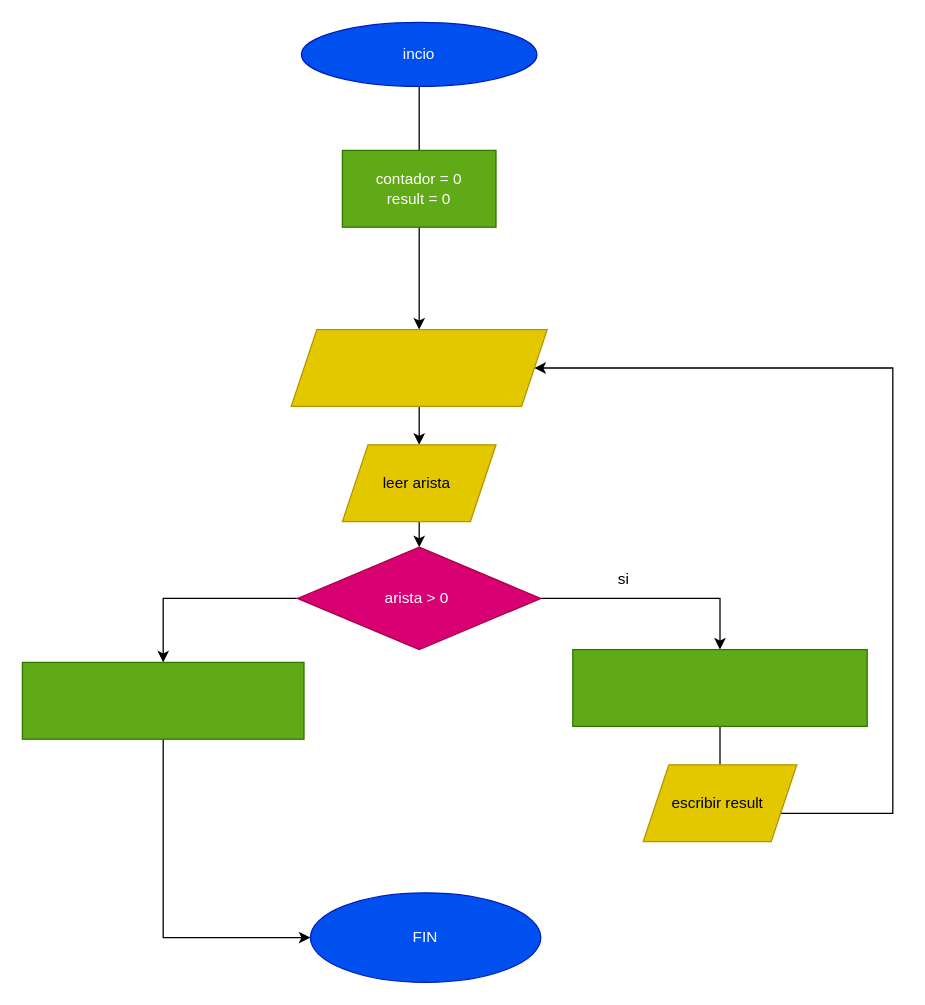
This 925x1005 diagram has some shape labels left out. Each missing label, with the centre of its shape:
escribir "introduce la media de la arista": the point at 418,367
Escribir "se han realizado" + contador + "calculos": the point at 162,700
result = (arista) 3 contador = contador + 1: the point at 719,687
